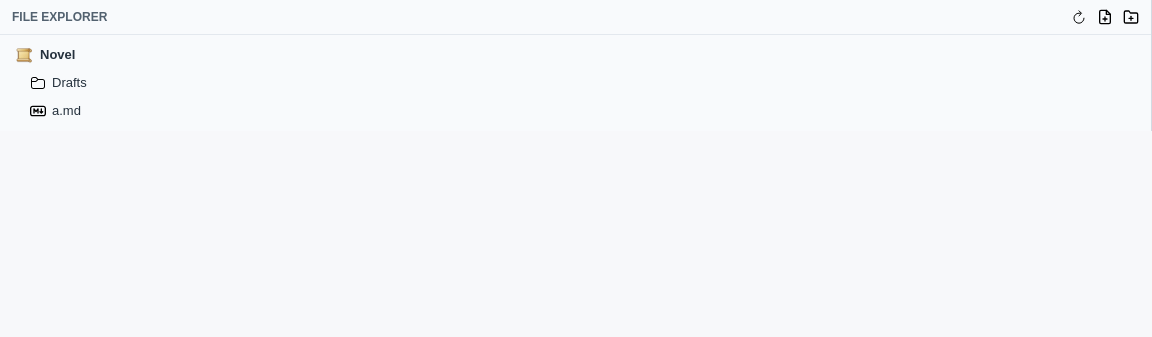
Scenario: FileExplorer create context menu (#355) › shows enabled New File / New Folder on an empty-area right-click
The image size is (1152, 337).
Step 1. Right-click the element with class "fileExplorerList" → (576, 83), box [0,35,1151,131]
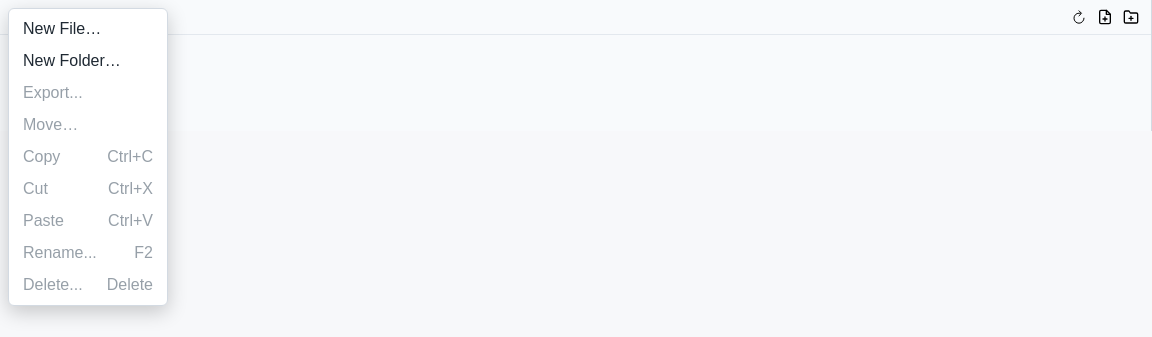
Result: the menu item "New File…" is enabled at [13,13,163,45]
Result: the menu item "New Folder…" is enabled at [13,45,163,77]
